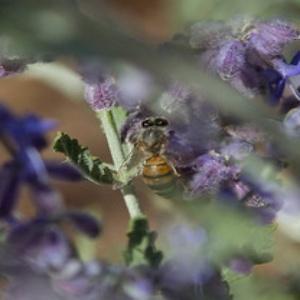bee: (134, 115, 179, 198)
